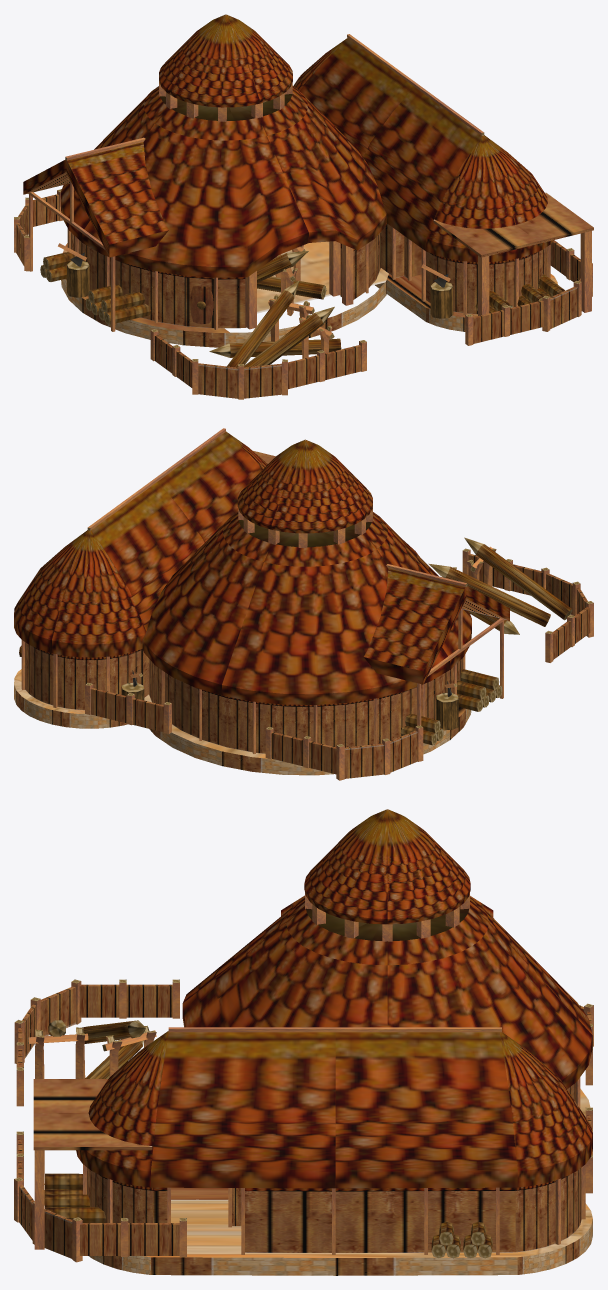
File: barracks.dae
3 views of the same model, one above another, from view 1: azimuth 30°, elevation 25°; view 2: azimuth 150°, elevation 25°; view 3: azimuth 270°, elevation 25° (orthographic). The views are drawn at different scales.
Parts seen in each view (by area): view 1: barracks; view 2: barracks; view 3: barracks.
Boxes of the visible parts, x1,y1,x2,y2 form: barracks: [14, 14, 593, 399]; barracks: [14, 428, 593, 780]; barracks: [14, 809, 593, 1275].
Size of the model in its own units: 27.89 by 28.18 by 17.45.
